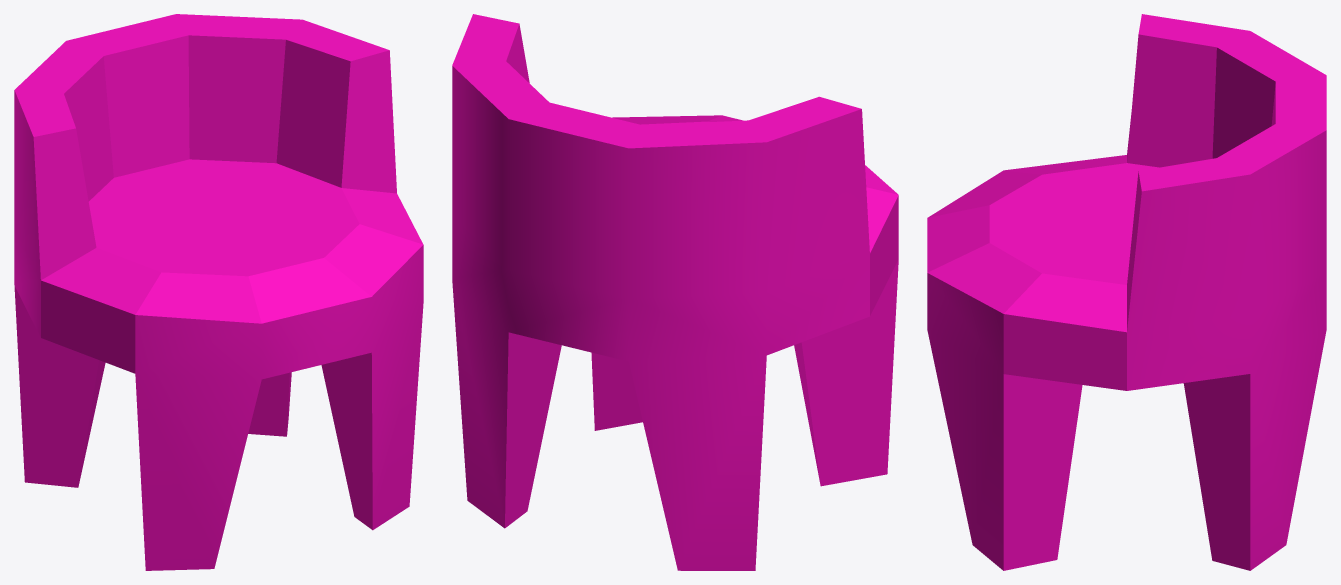
Rendered from study_chair_3_meshCollider.fbx.
3 views of the same model, side by side, from view 1: azimuth 30°, elevation 25°; view 2: azimuth 150°, elevation 25°; view 3: azimuth 270°, elevation 25° (orthographic). The views are drawn at different scales.
Visible parts, largest first — view 1: study_chair_3_meshCollider; view 2: study_chair_3_meshCollider; view 3: study_chair_3_meshCollider.
Boxes of the visible parts, x1,y1,x2,y2 form: study_chair_3_meshCollider: (14, 14, 423, 570); study_chair_3_meshCollider: (452, 14, 898, 570); study_chair_3_meshCollider: (927, 14, 1326, 570).
Bounding box in the file's own units: 40.4 × 42.83 × 38.42.
